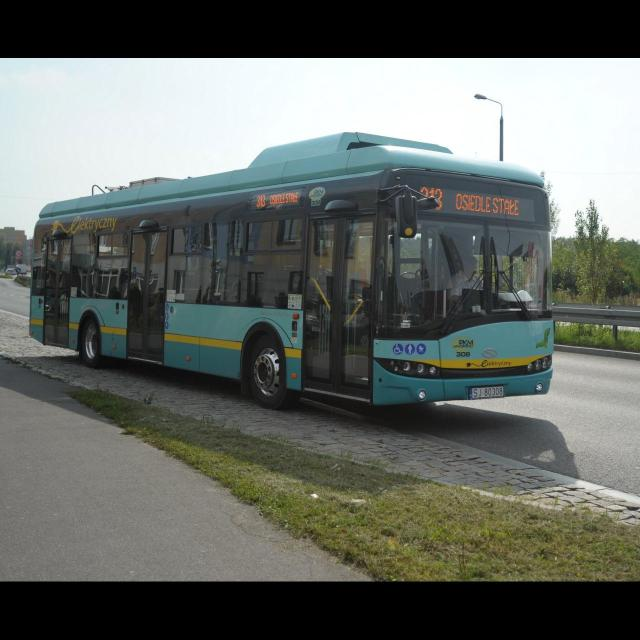Bus: (29, 132, 554, 408)
